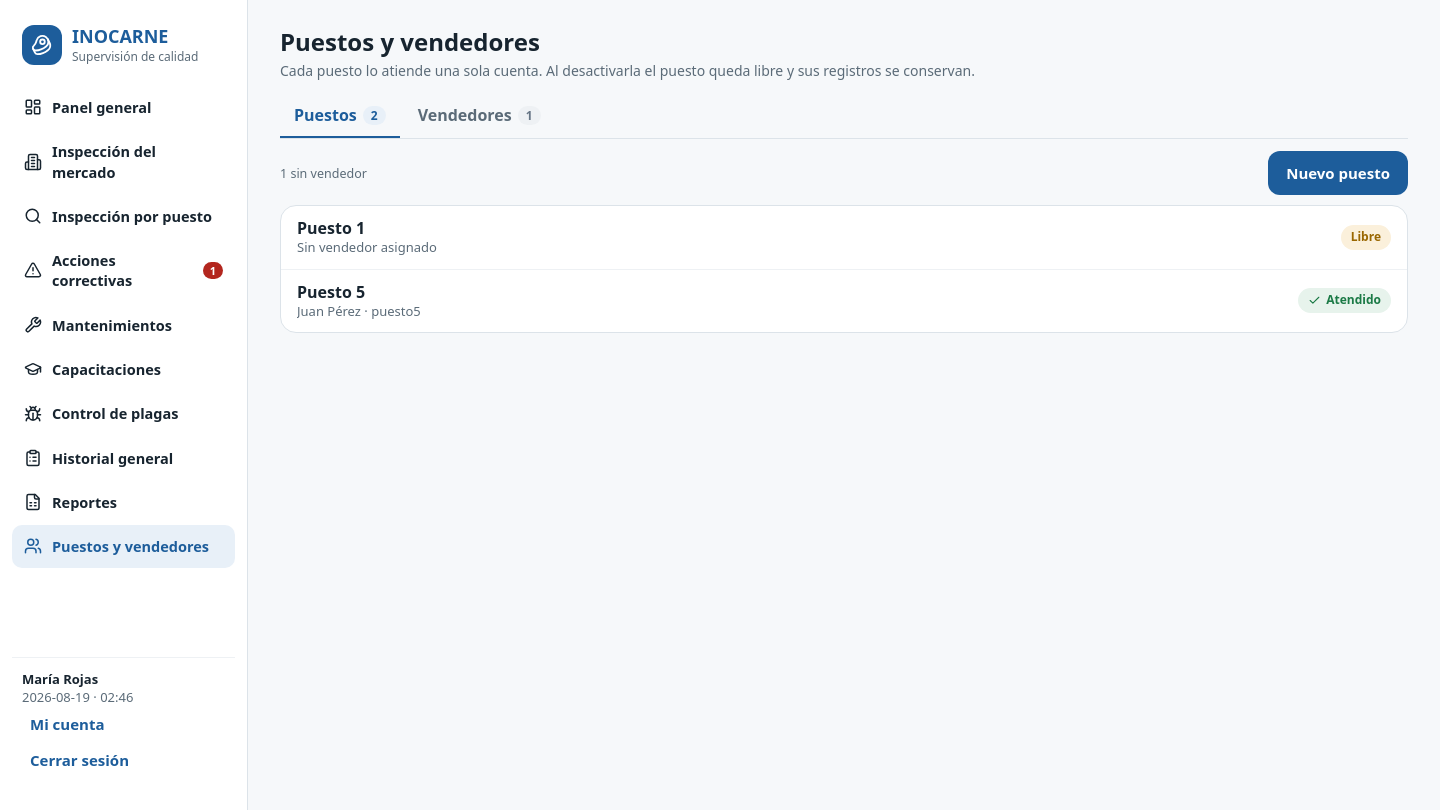
Test: puestos y vendedores › solo ofrece los puestos que no tienen vendedor
Click the tab "Vendedores 1". click: coordinates (479, 117)
box: [404, 94, 555, 139]
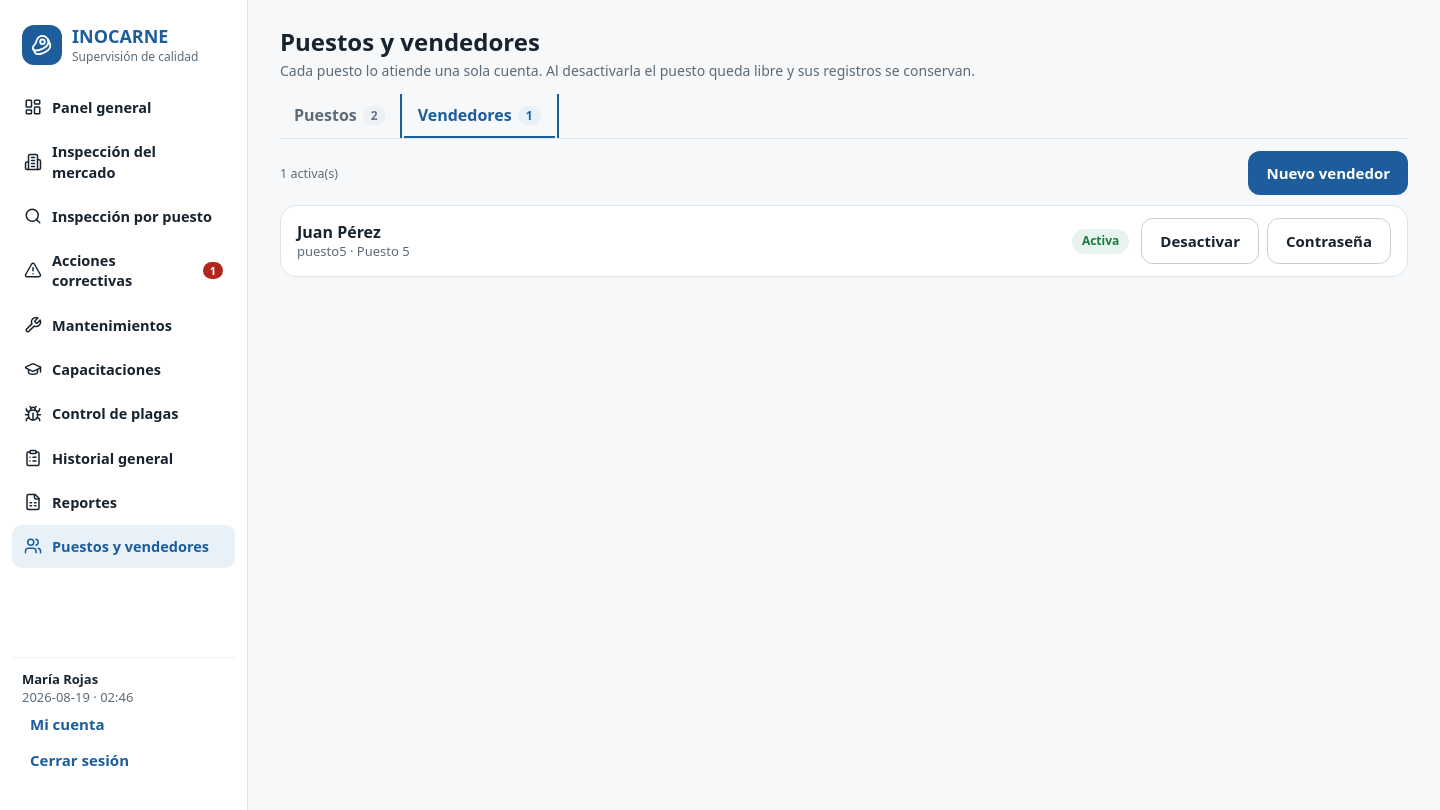
Click the button "Nuevo vendedor". click: coordinates (1328, 173)
box: [1248, 151, 1408, 195]
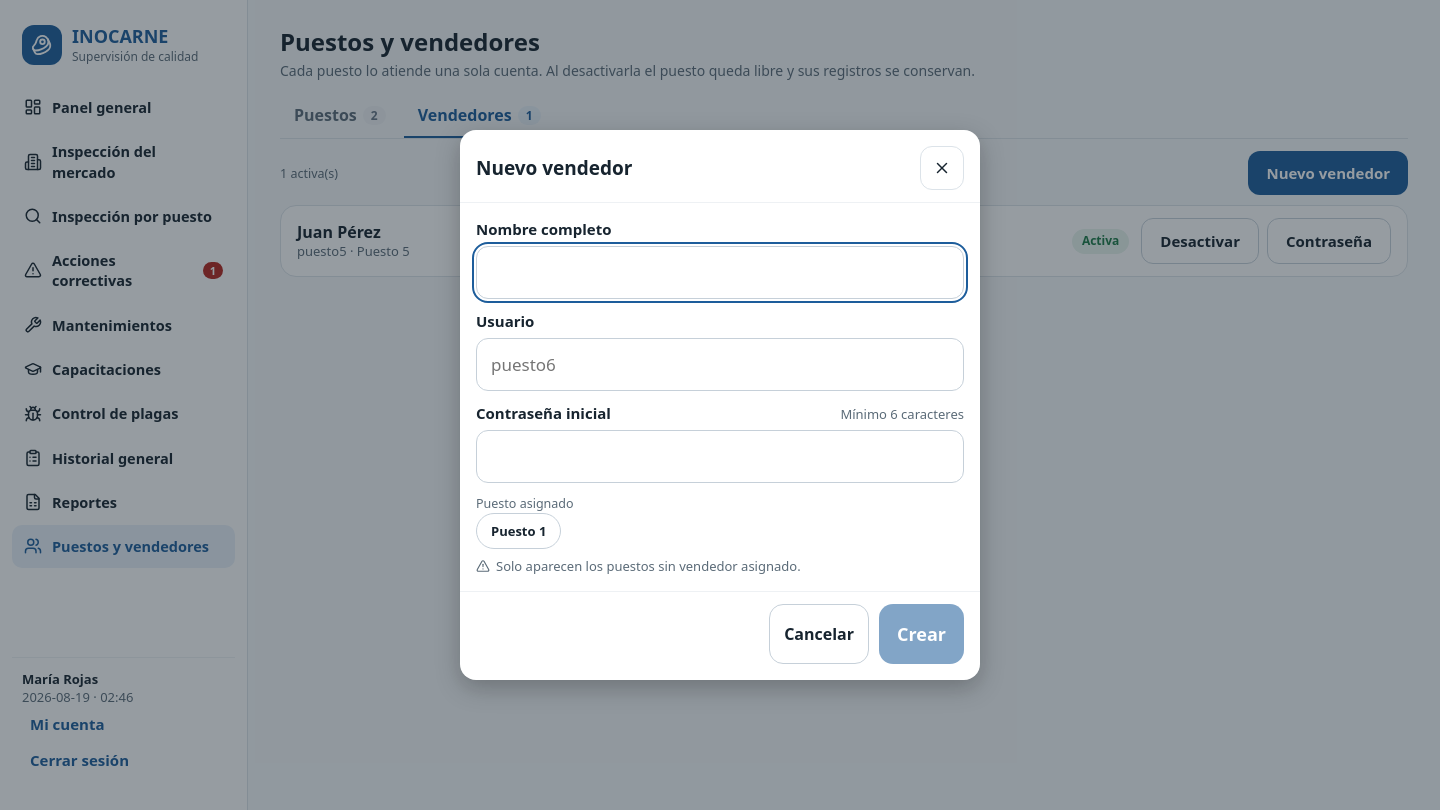
expect the radio button labelled "Puesto 1" is shown: met, box [476, 513, 561, 549]
